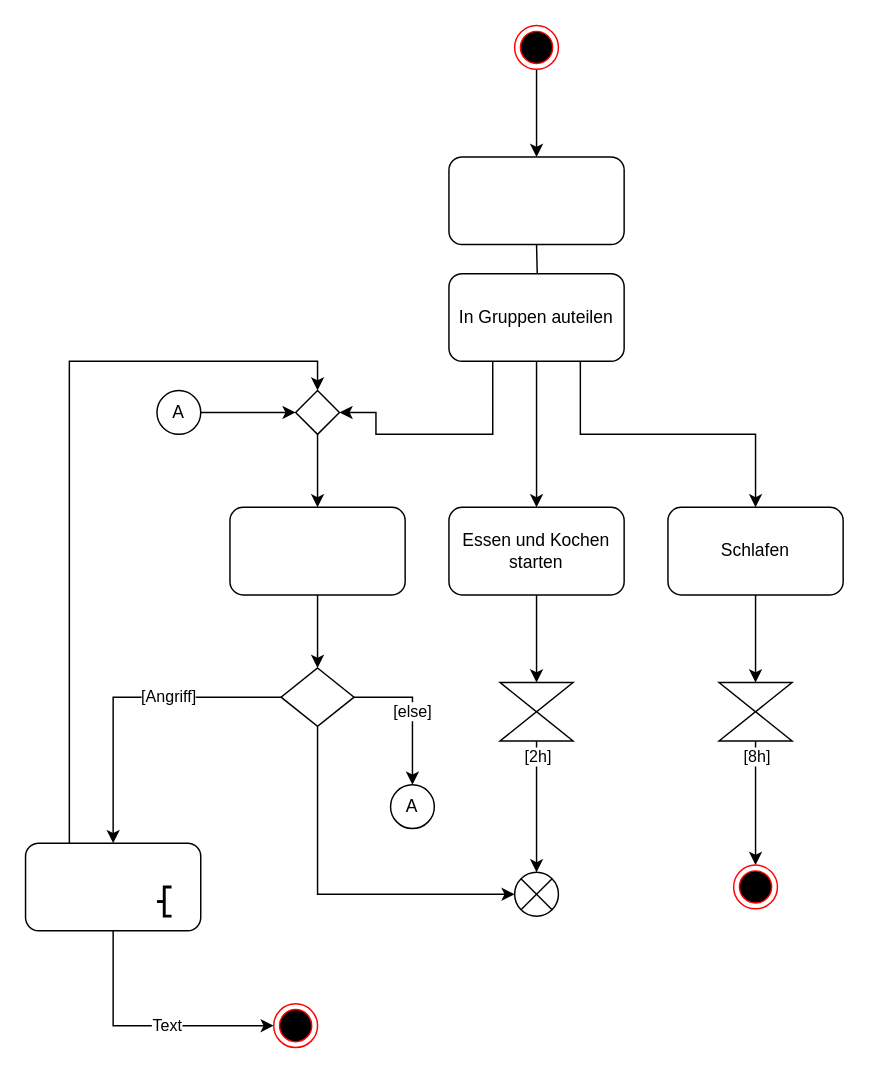
The diagram is 869 pixels wide and 1073 high, and some of its shapes have lost their labels. Here are the shapes that lost their labels. From the top down, the box of each, then its label:
(447, 155, 624, 245): Feuer entfachen
(228, 506, 405, 595): Wache halten
(24, 842, 201, 931): Kampf
